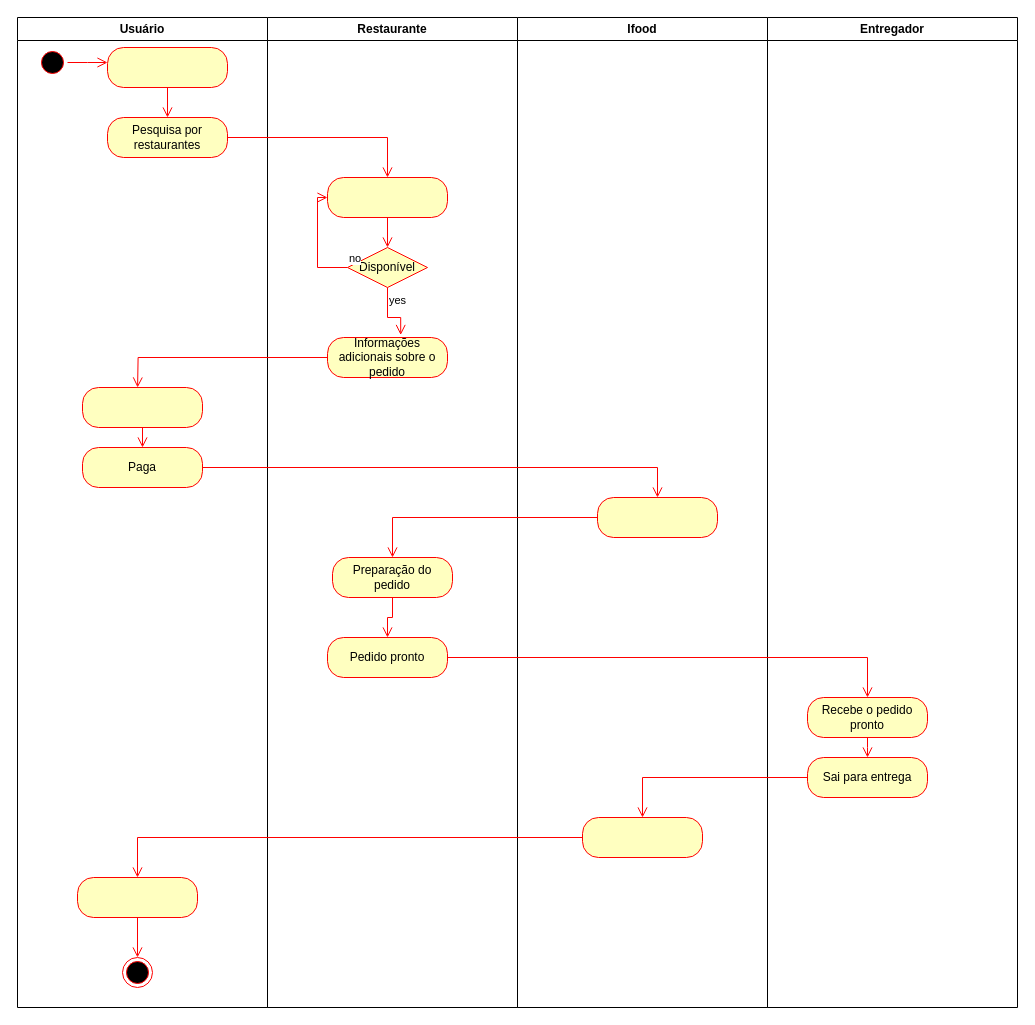
Image size: 1035x1025. Some labels were removed from this diagram. The centre of each missing label's shape, as x and y in pixels:
Abre o aplicativo: the point at 167,67
Confere o pedido: the point at 142,407
Notifica a saída do entregador: the point at 642,837
Recebe o pedido: the point at 137,897
Seleciona o item do cardápio: the point at 387,197
Sistema confirma o pagamento do pedido: the point at 657,517
